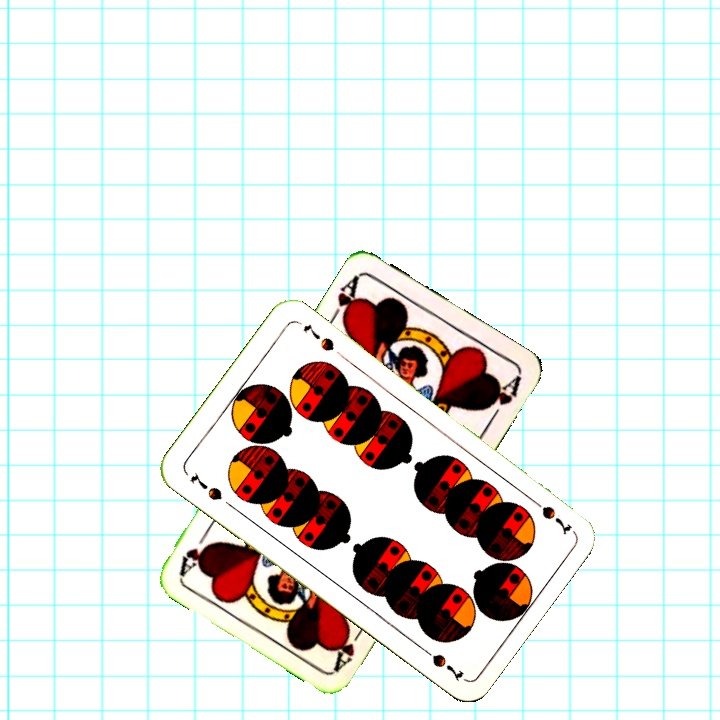HA: (330, 619, 370, 673), (325, 271, 363, 327)
S7: (524, 492, 574, 537), (186, 467, 225, 503)
